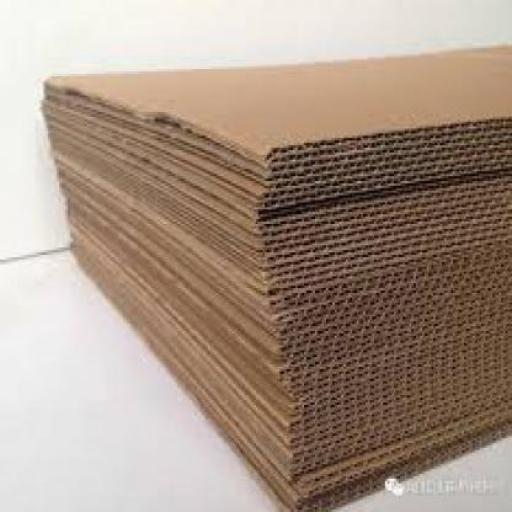cardboard: (41, 43, 510, 510), (44, 50, 510, 159)
